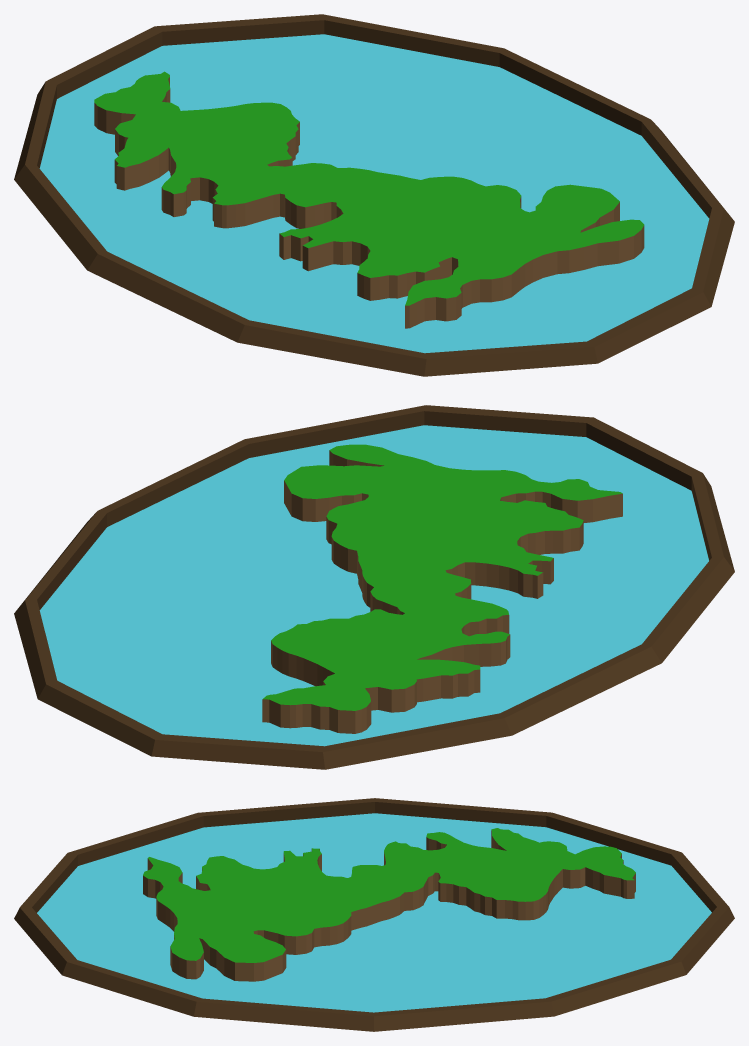
The model's file is UKBoardV02.fbx.
3 renders of one model, top to bottom at view 1: azimuth 30°, elevation 25°; view 2: azimuth 150°, elevation 25°; view 3: azimuth 270°, elevation 25°, orthographic. The views are drawn at different scales.
Visible parts, largest first — view 1: Board02, UKContinent; view 2: Board02, UKContinent; view 3: Board02, UKContinent.
Part boxes in pixels (x1,y1,x2,y2): Board02: [14, 14, 734, 376]; UKContinent: [94, 71, 644, 328]; Board02: [14, 405, 734, 769]; UKContinent: [262, 444, 622, 733]; Board02: [14, 798, 734, 1031]; UKContinent: [143, 828, 635, 981].
Size of the model in its own units: 48.8 by 1.91 by 65.63.
1 material, 1 textured.
